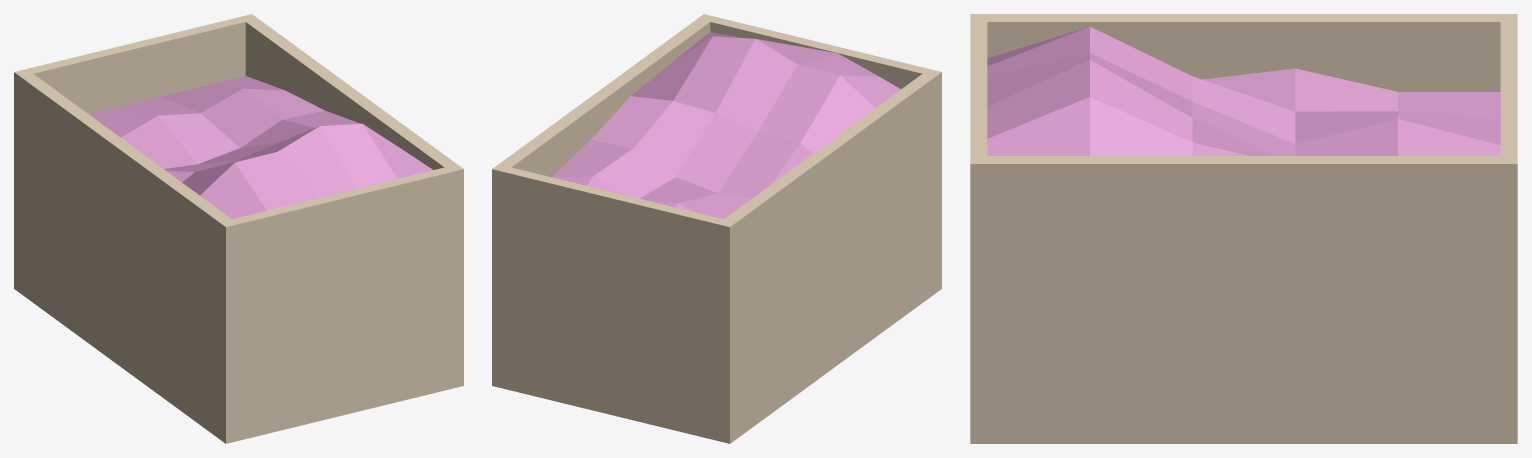
The model's file is Ice_cream_box_2.fbx.
3 views of the same model, side by side, from view 1: azimuth 30°, elevation 25°; view 2: azimuth 150°, elevation 25°; view 3: azimuth 270°, elevation 25° (orthographic). The views are drawn at different scales.
Visible parts, largest first — view 1: Ice_cream_box_2; view 2: Ice_cream_box_2; view 3: Ice_cream_box_2.
Boxes of the visible parts, x1,y1,x2,y2 form: Ice_cream_box_2: (14,14,463,443); Ice_cream_box_2: (492,14,941,443); Ice_cream_box_2: (970,14,1517,443).
Size of the model in its own units: 25.15 by 25.21 by 38.79.
